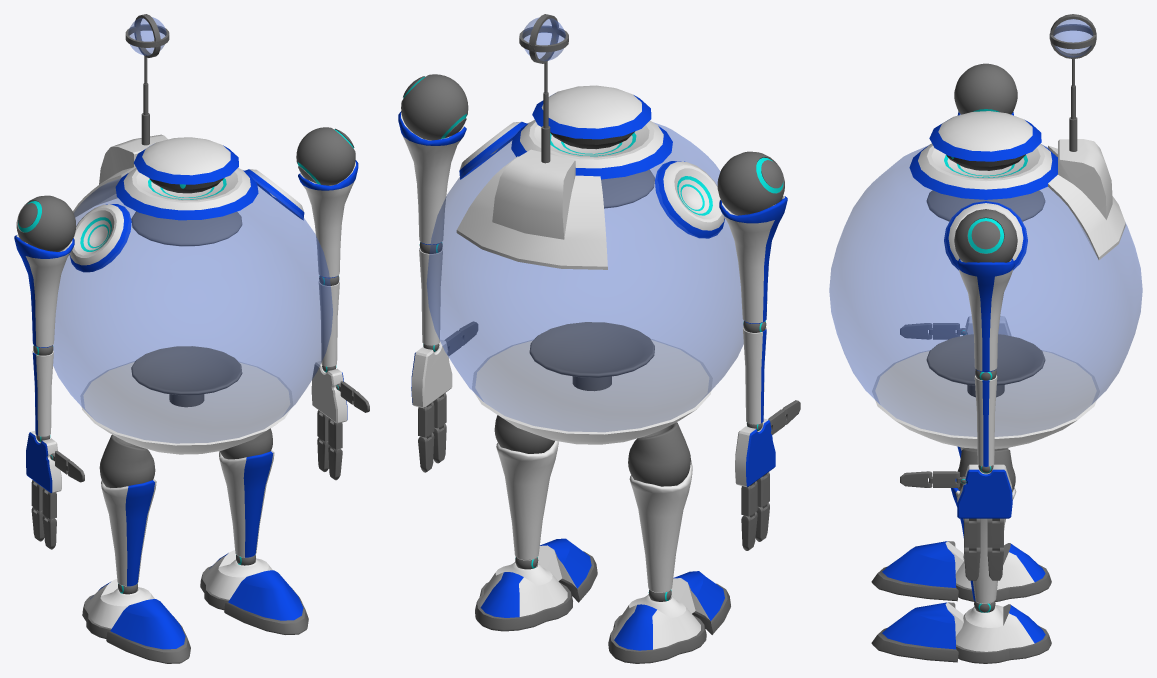
File: kyara_blue.fbx
The picture shows the model from 3 angles, left to right: view 1: azimuth 30°, elevation 25°; view 2: azimuth 150°, elevation 25°; view 3: azimuth 270°, elevation 25°; orthographic projection. The views are drawn at different scales.
Visible parts, largest first — view 1: polySurface81, polySurface79, polySurface83, polySurface88, polySurface71, polySurface90, polySurface70, polySurface42, polySurface84, polySurface58, polySurface60, polySurface78 (+13 smaller); view 2: polySurface81, polySurface79, polySurface83, polySurface89, polySurface75, polySurface90, polySurface70, polySurface42, polySurface84, polySurface58, polySurface60, polySurface44 (+13 smaller); view 3: polySurface81, polySurface83, polySurface75, polySurface79, polySurface71, polySurface88, polySurface58, polySurface60, polySurface44, polySurface61, polySurface89, polySurface78 (+14 smaller).
Boxes of the visible parts, x1,y1,x2,y2 form: polySurface81: [53, 134, 332, 454]; polySurface79: [131, 346, 242, 407]; polySurface83: [134, 137, 238, 193]; polySurface88: [106, 599, 190, 663]; polySurface71: [224, 570, 308, 634]; polySurface90: [101, 479, 156, 586]; polySurface70: [219, 450, 274, 557]; polySurface42: [14, 234, 74, 347]; polySurface84: [69, 204, 131, 272]; polySurface58: [298, 160, 358, 278]; polySurface60: [296, 127, 355, 185]; polySurface78: [131, 211, 242, 246]; polySurface81: [426, 120, 743, 444]; polySurface79: [529, 322, 654, 391]; polySurface83: [532, 85, 651, 149]; polySurface89: [608, 594, 706, 663]; polySurface75: [475, 562, 572, 631]; polySurface90: [629, 460, 692, 592]; polySurface70: [496, 441, 558, 560]; polySurface42: [719, 196, 787, 323]; polySurface84: [655, 161, 724, 238]; polySurface58: [398, 111, 466, 244]; polySurface60: [401, 74, 468, 140]; polySurface44: [717, 151, 784, 215]; polySurface81: [829, 139, 1142, 448]; polySurface83: [929, 111, 1041, 170]; polySurface75: [955, 604, 1051, 663]; polySurface79: [926, 334, 1045, 397]; polySurface71: [871, 602, 963, 662]; polySurface88: [871, 541, 963, 601]; polySurface58: [957, 258, 1014, 372]; polySurface60: [954, 209, 1017, 262]; polySurface44: [954, 63, 1017, 114]; polySurface61: [957, 464, 1012, 518]; polySurface89: [955, 543, 1051, 601]; polySurface78: [926, 190, 1045, 221].
Bounding box in the file's own units: 2.12 × 3.37 × 1.6.
